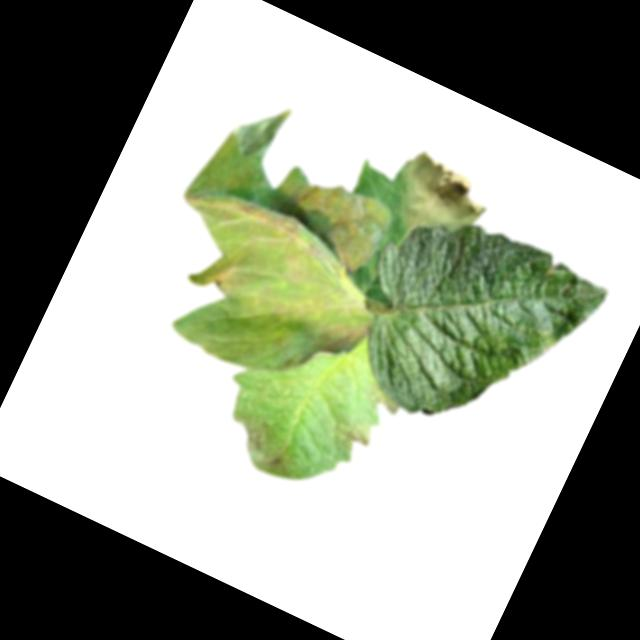Late_blight: (261, 161, 397, 284), (383, 143, 500, 256), (284, 298, 371, 393), (217, 402, 301, 479), (202, 257, 246, 301), (343, 423, 373, 449)
